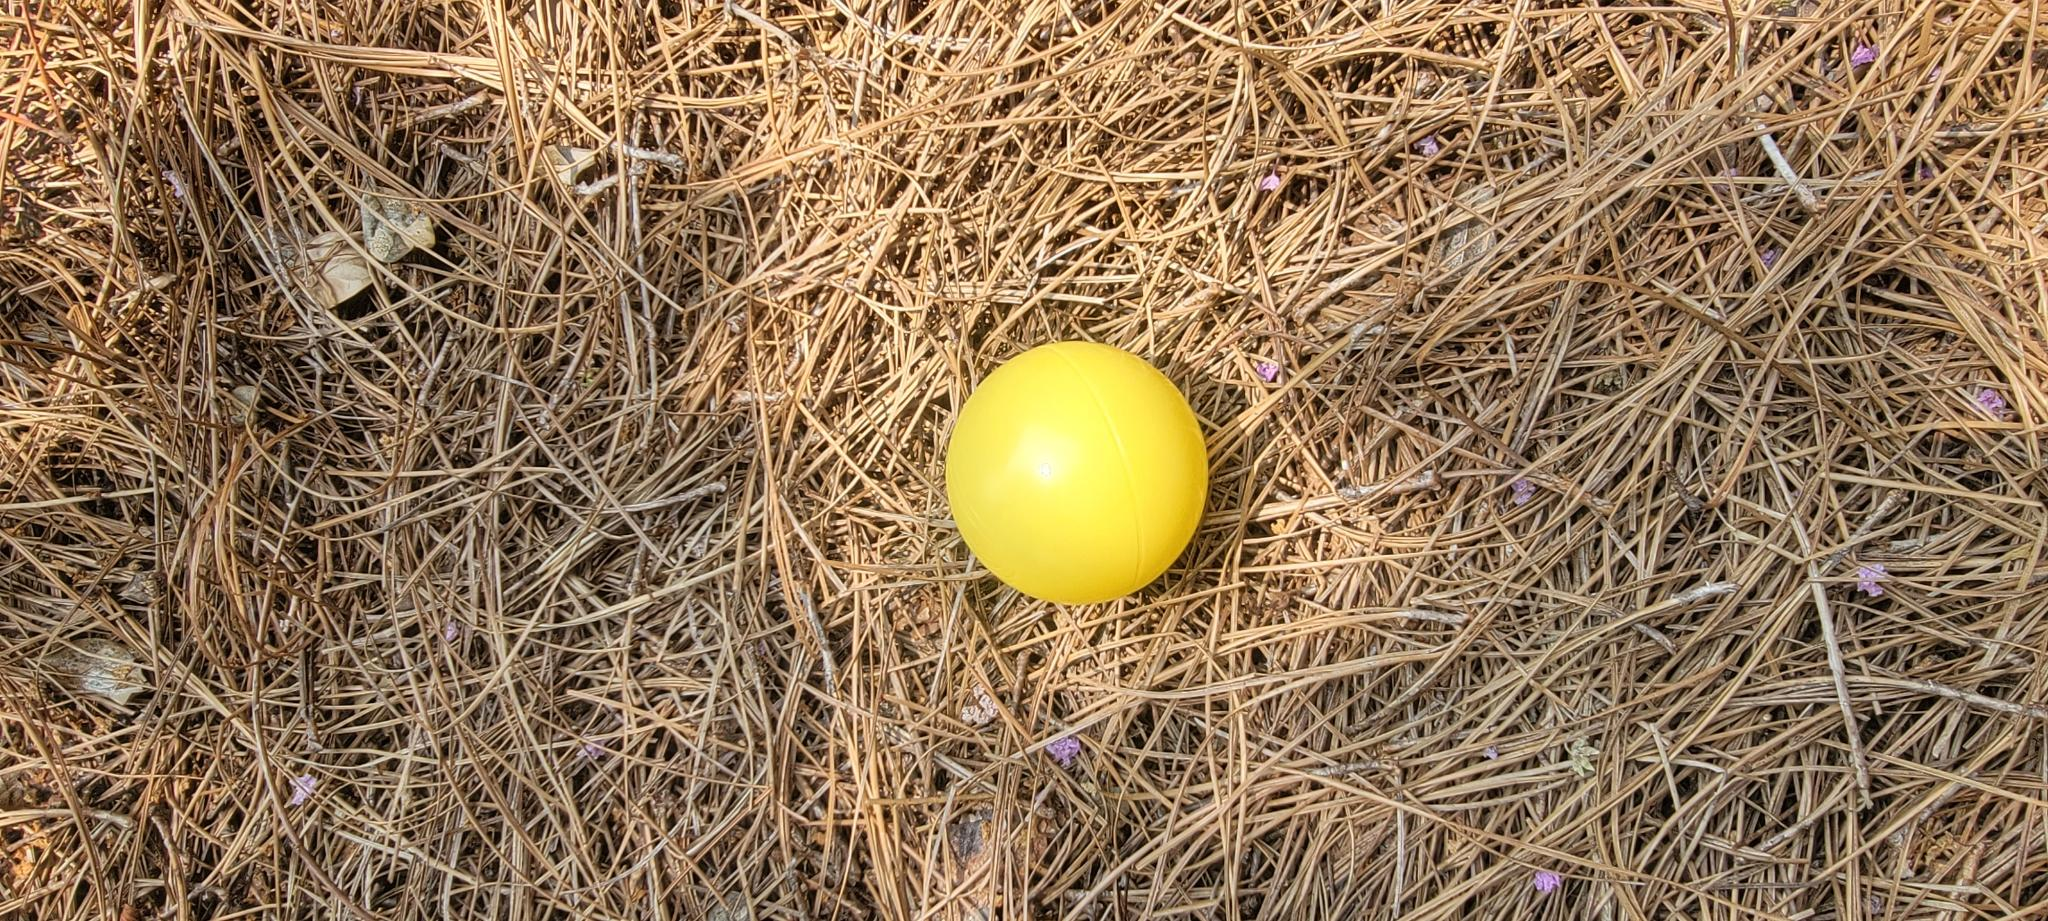Yellow-Ball: (340, 843, 605, 921)
